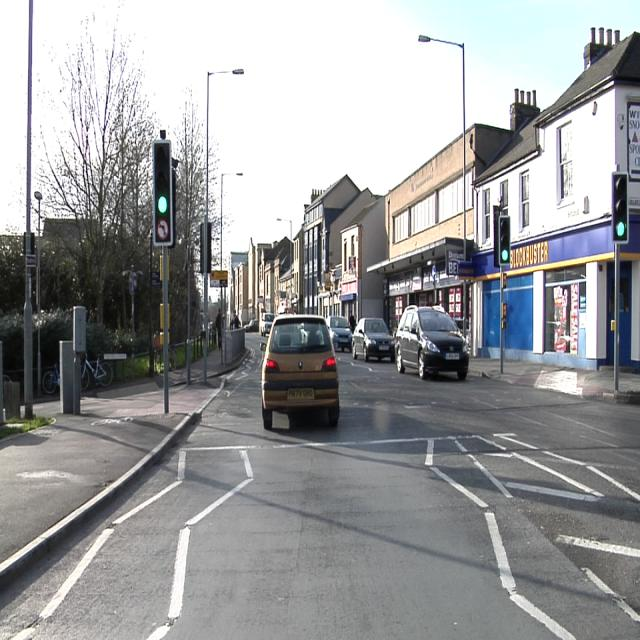Building: (472, 28, 640, 371), (370, 123, 511, 329), (291, 175, 388, 319), (170, 103, 205, 340), (229, 237, 291, 325)
Car: (261, 315, 339, 430), (395, 307, 469, 380), (352, 318, 394, 360), (326, 315, 352, 351)
Road: (0, 335, 640, 638)
Tree: (34, 23, 159, 349)
